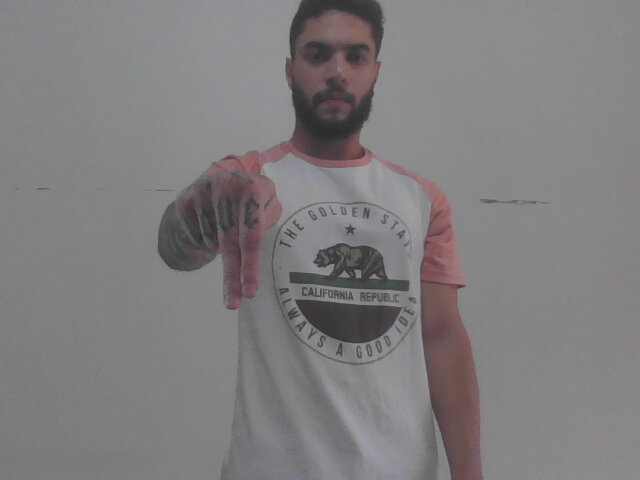n: (170, 170, 286, 312)
